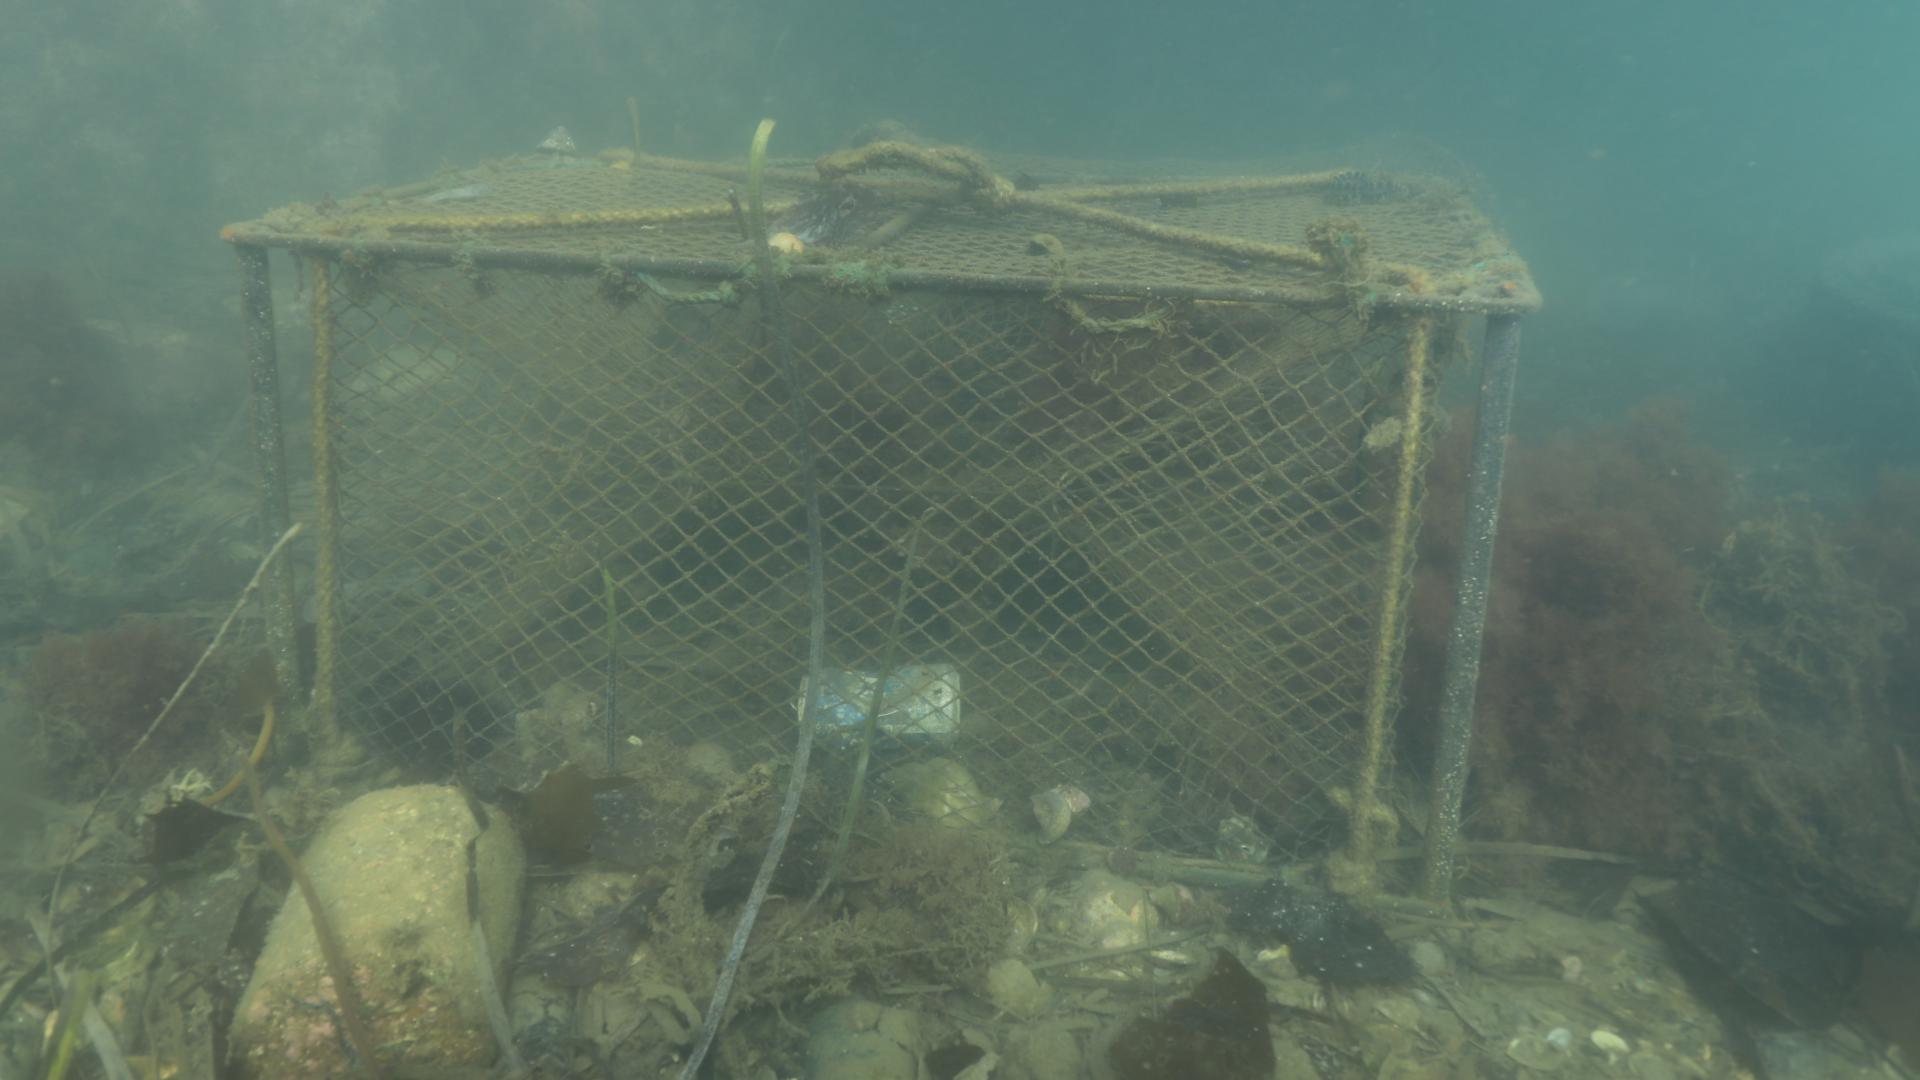rectangular fish trap: (220, 146, 1542, 948)
